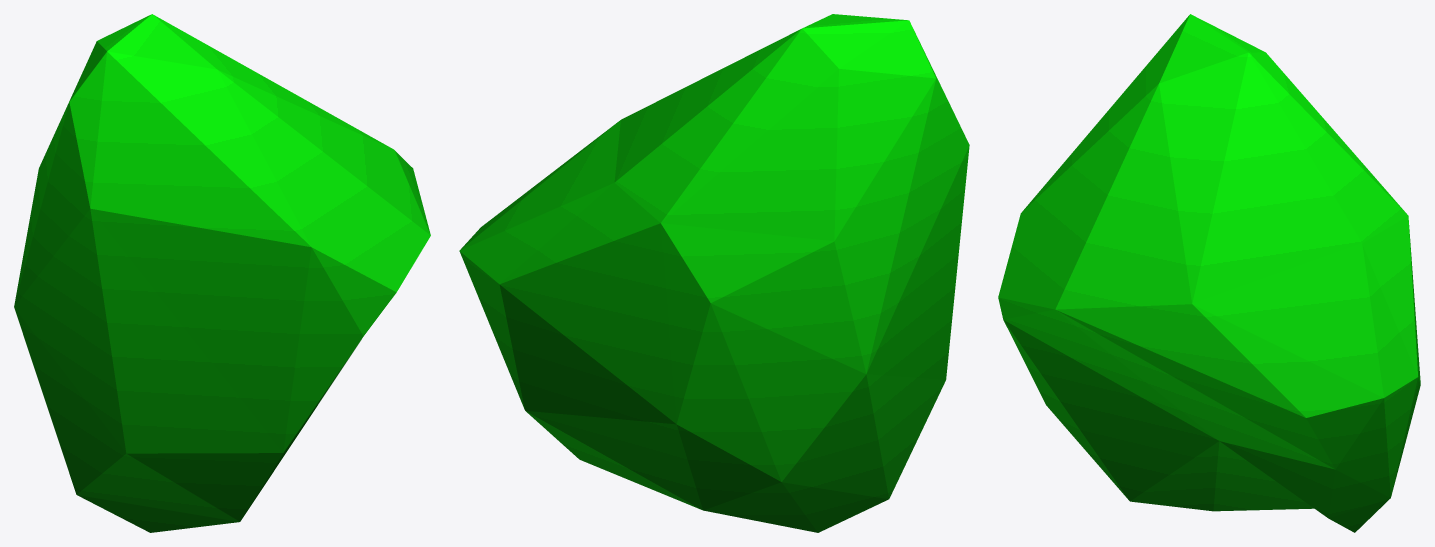
The model's file is Prefab_Foliage_Tree_Birch_Leaves_D.glb.
3 renders of one model, left to right at view 1: azimuth 30°, elevation 25°; view 2: azimuth 150°, elevation 25°; view 3: azimuth 270°, elevation 25°, orthographic. The views are drawn at different scales.
Parts seen in each view (by area): view 1: Foliage_Birch_C.001; view 2: Foliage_Birch_C.001; view 3: Foliage_Birch_C.001.
Part boxes in pixels (x1,y1,x2,y2): Foliage_Birch_C.001: [14, 14, 430, 532]; Foliage_Birch_C.001: [459, 14, 969, 532]; Foliage_Birch_C.001: [998, 14, 1420, 532].
Size of the model in its own units: 2.22 by 2.63 by 2.14.
1 material, 1 textured.
